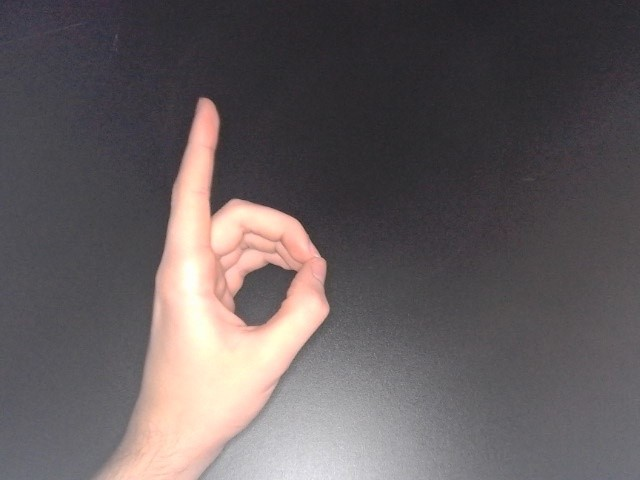d: (130, 91, 334, 458)
